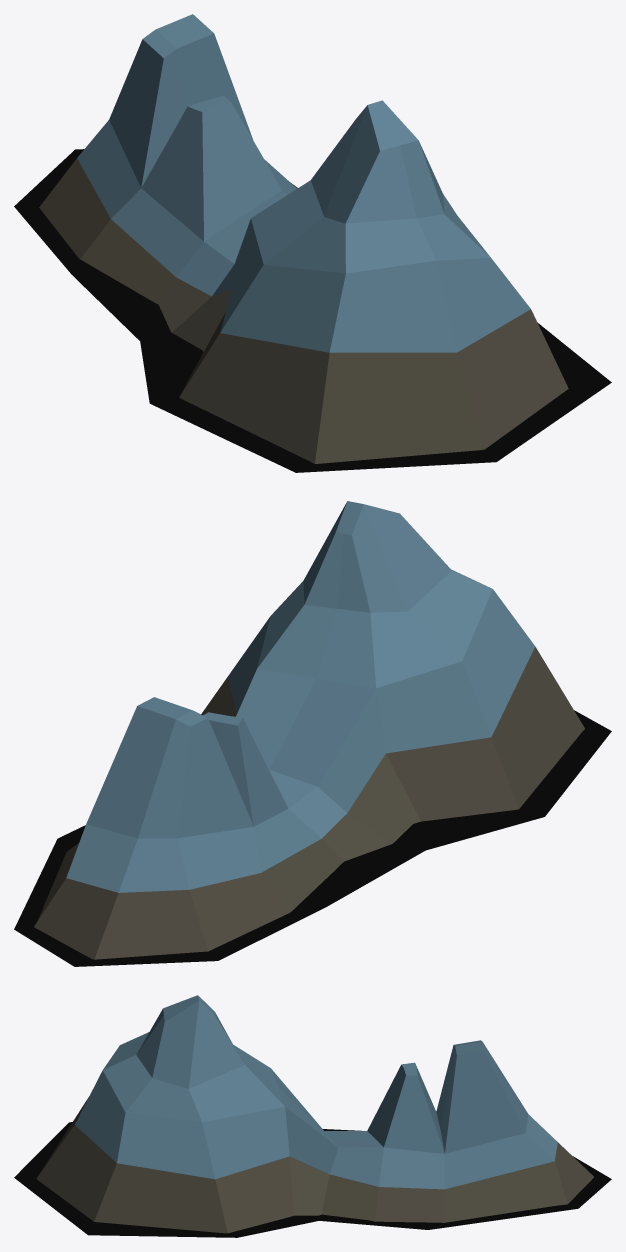
The model's file is Gorz1.fbx.
3 views of the same model, one above another, from view 1: azimuth 30°, elevation 25°; view 2: azimuth 150°, elevation 25°; view 3: azimuth 270°, elevation 25° (orthographic). The views are drawn at different scales.
Visible parts, largest first — view 1: Gora1; view 2: Gora1; view 3: Gora1.
Boxes of the visible parts, left/top/right/bottom form: Gora1: left=14, top=14, right=611, bottom=472; Gora1: left=14, top=501, right=611, bottom=966; Gora1: left=14, top=995, right=611, bottom=1237.
Bounding box in the file's own units: 189737 × 128274 × 372356.
